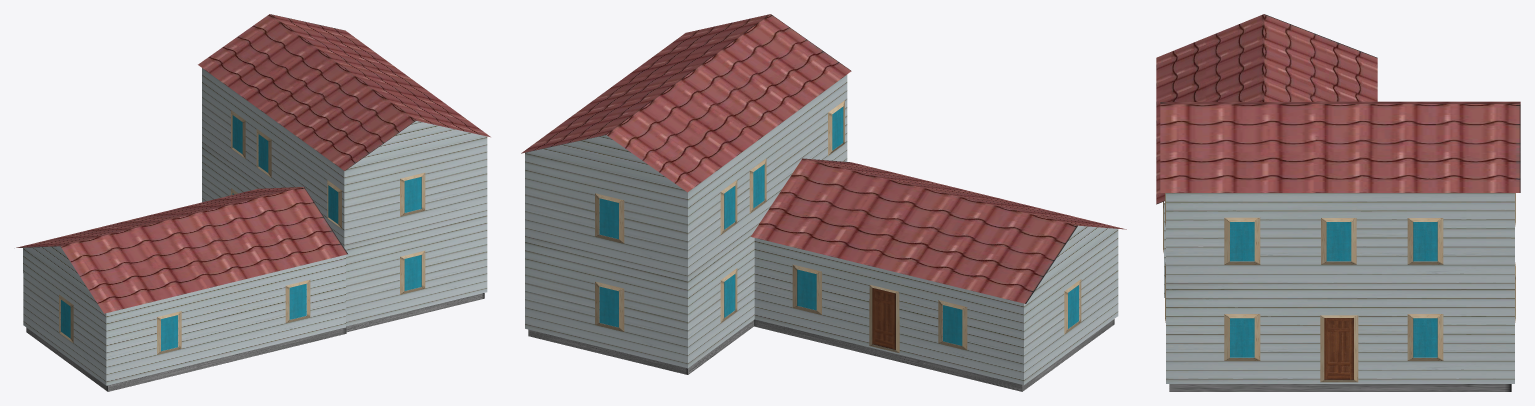
File: Hus4v2.glb
The picture shows the model from 3 angles, left to right: view 1: azimuth 30°, elevation 25°; view 2: azimuth 150°, elevation 25°; view 3: azimuth 270°, elevation 25°; orthographic projection. The views are drawn at different scales.
Parts seen in each view (by area): view 1: Hus4; view 2: Hus4; view 3: Hus4.
Boxes of the visible parts, x1=… form: Hus4: x1=16, y1=14, x2=490, y2=391; Hus4: x1=521, y1=14, x2=1126, y2=391; Hus4: x1=1156, y1=14, x2=1520, y2=391.
Bounding box in the file's own units: 18.36 × 8.93 × 12.06.
1 material, 1 textured.
